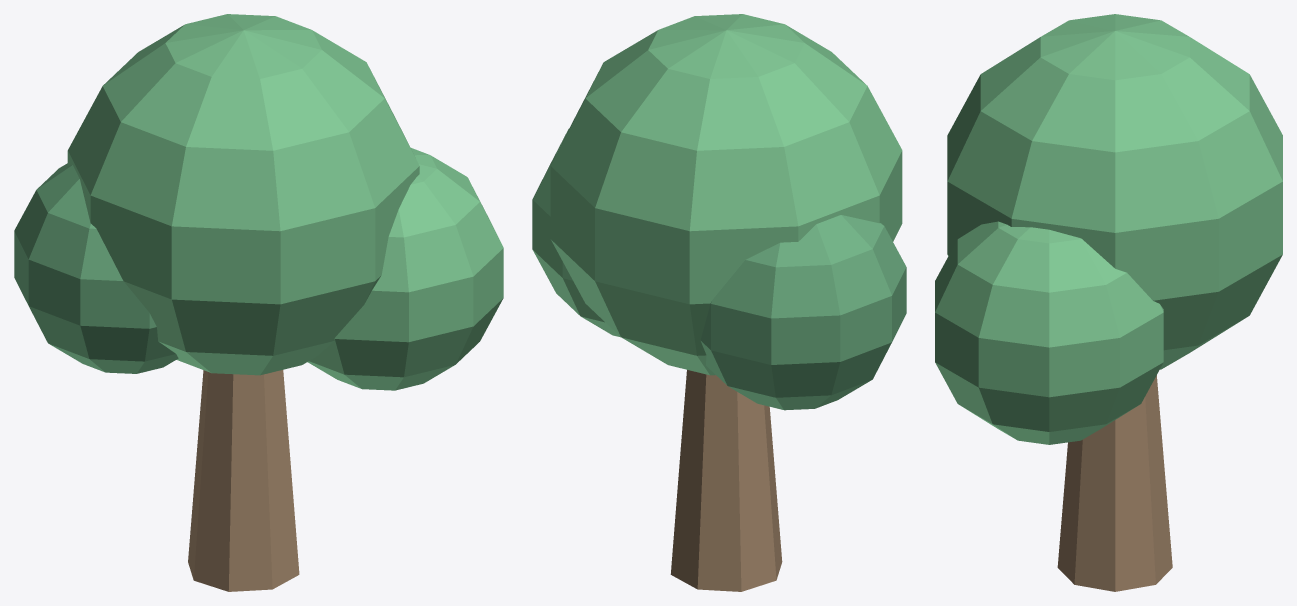
File: tree.glb
3 renders of one model, left to right at view 1: azimuth 30°, elevation 25°; view 2: azimuth 150°, elevation 25°; view 3: azimuth 270°, elevation 25°, orthographic.
Visible parts, largest first — view 1: arbol; view 2: arbol; view 3: arbol.
Part boxes in pixels (box(x1,y1,x2,y2)): arbol: box(14, 14, 503, 591); arbol: box(532, 14, 906, 591); arbol: box(935, 14, 1282, 591).
Size of the model in its own units: 0.5627 by 0.72 by 0.4231.
